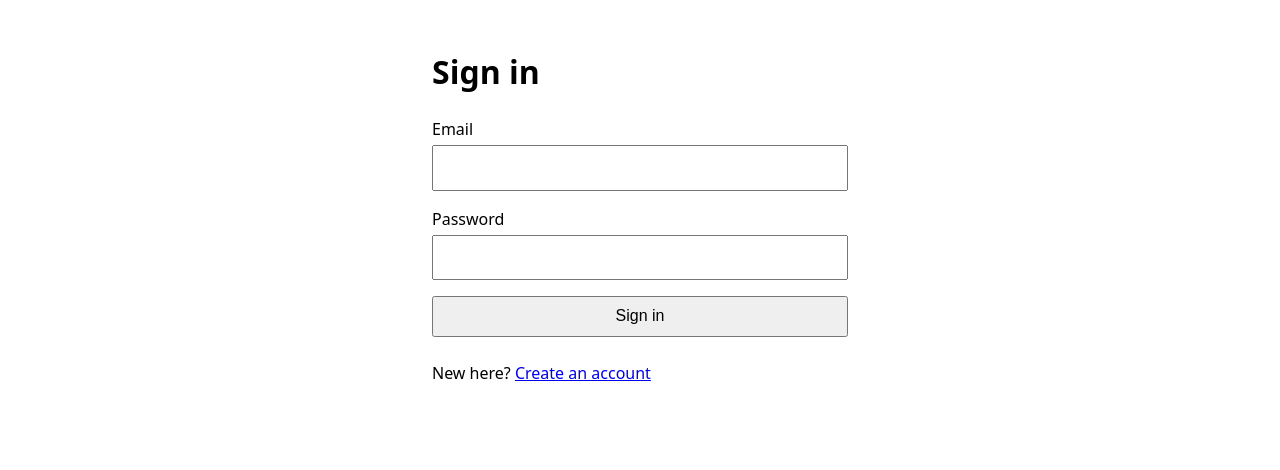
App routing and sign-in › shows a clear error for wrong credentials and signs in with the right ones
Type "kanchani@example.com" into the field labelled "Email".
click(640, 168); type("kanchani@example.com")  # box [432, 145, 848, 191]
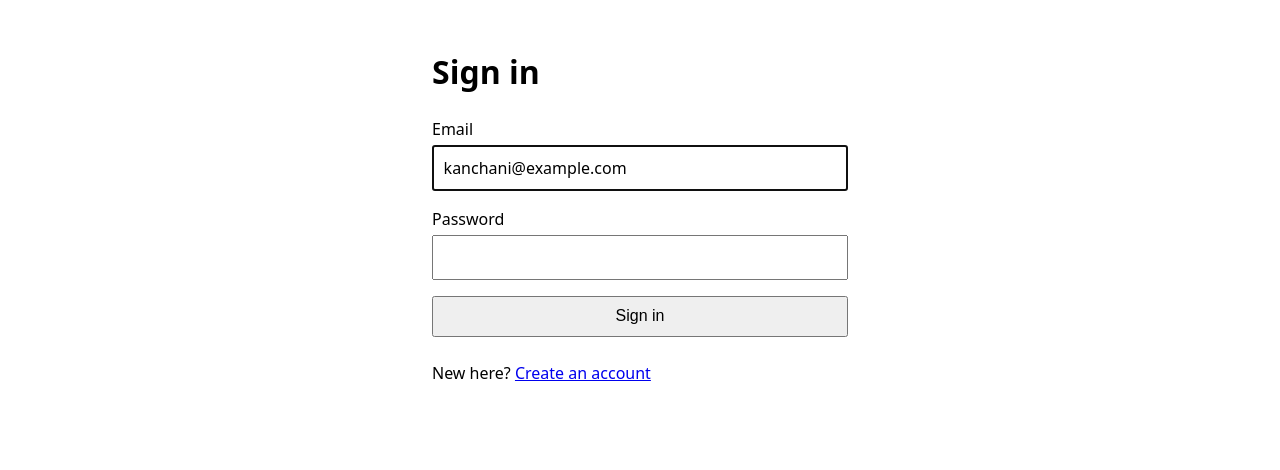
Type "wrong-password-123" into the password field labelled "Password".
click(640, 257); type("wrong-password-123")  # box [432, 235, 848, 280]
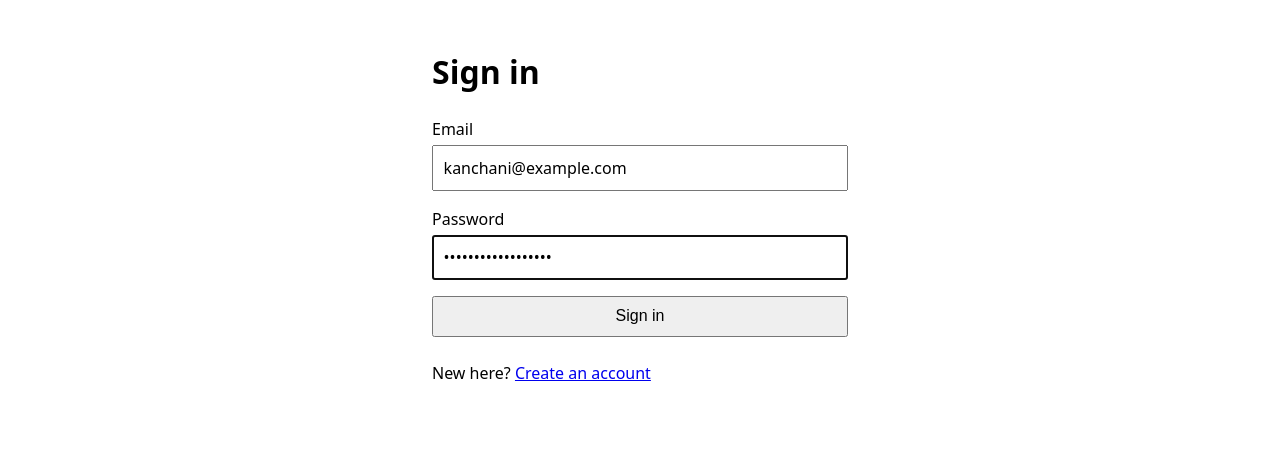
Click the button "Sign in".
click(640, 316)  # box [432, 296, 848, 337]
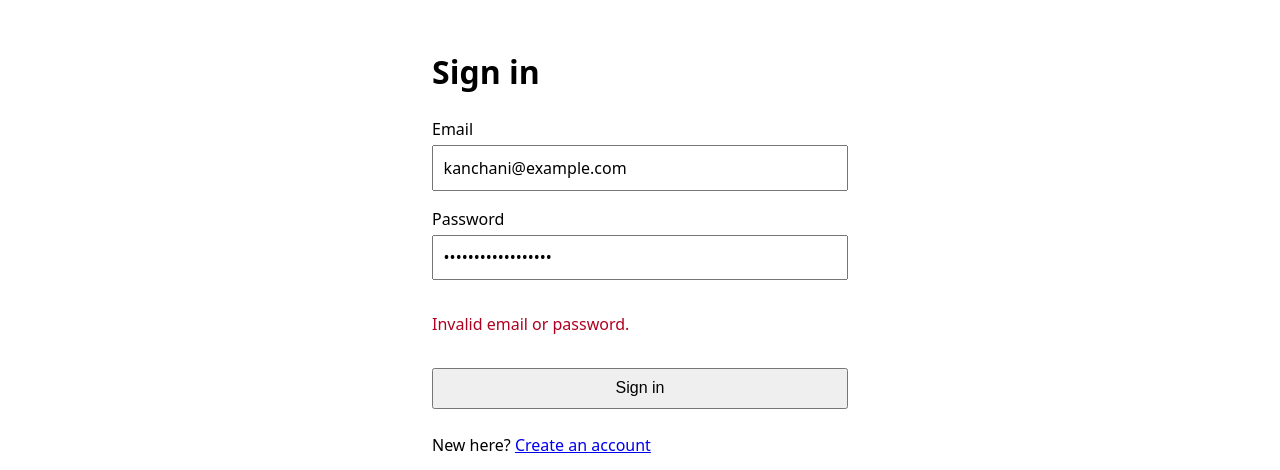
Check: the message reads "Invalid email or password.", box [432, 313, 629, 335]
Click the button "Sign in".
click(640, 388)  # box [432, 368, 848, 409]
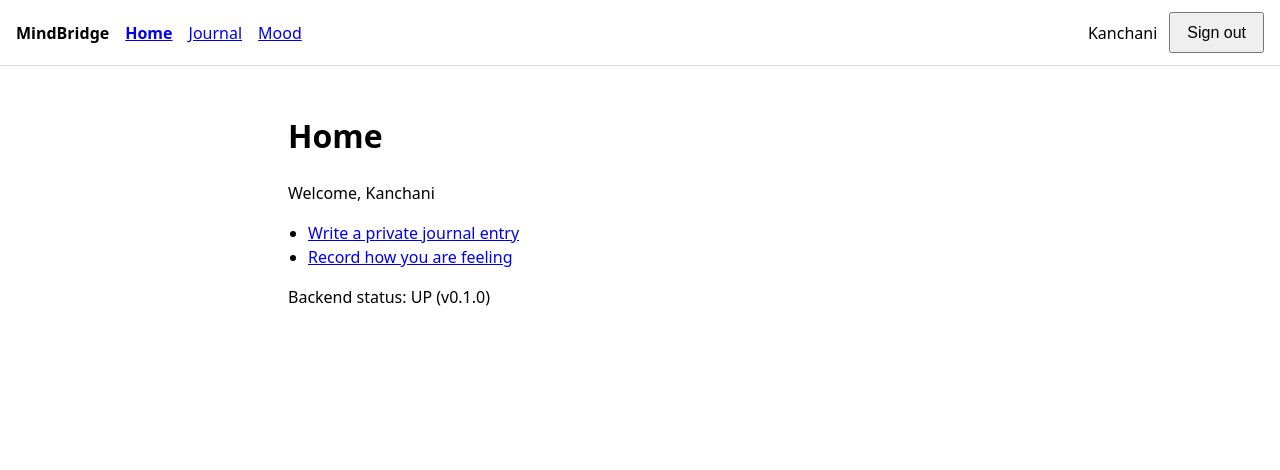
Check: the text "Welcome, Kanchani" is shown, box [288, 182, 435, 204]
